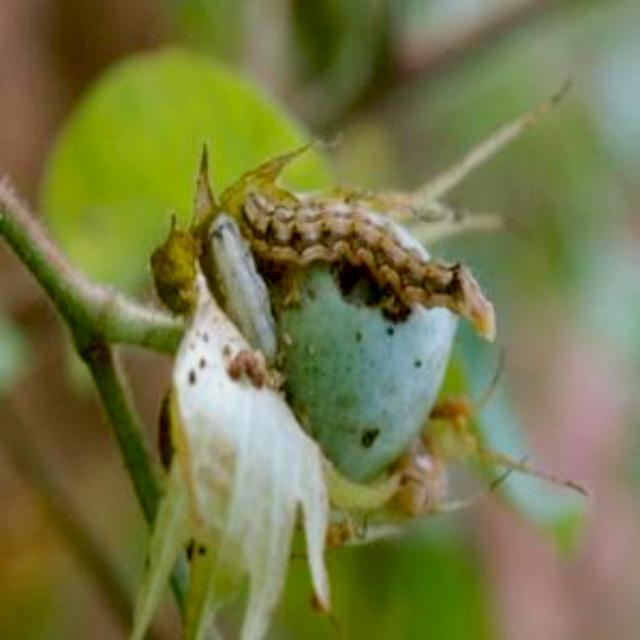Cotton bollworm: (211, 152, 514, 364)
